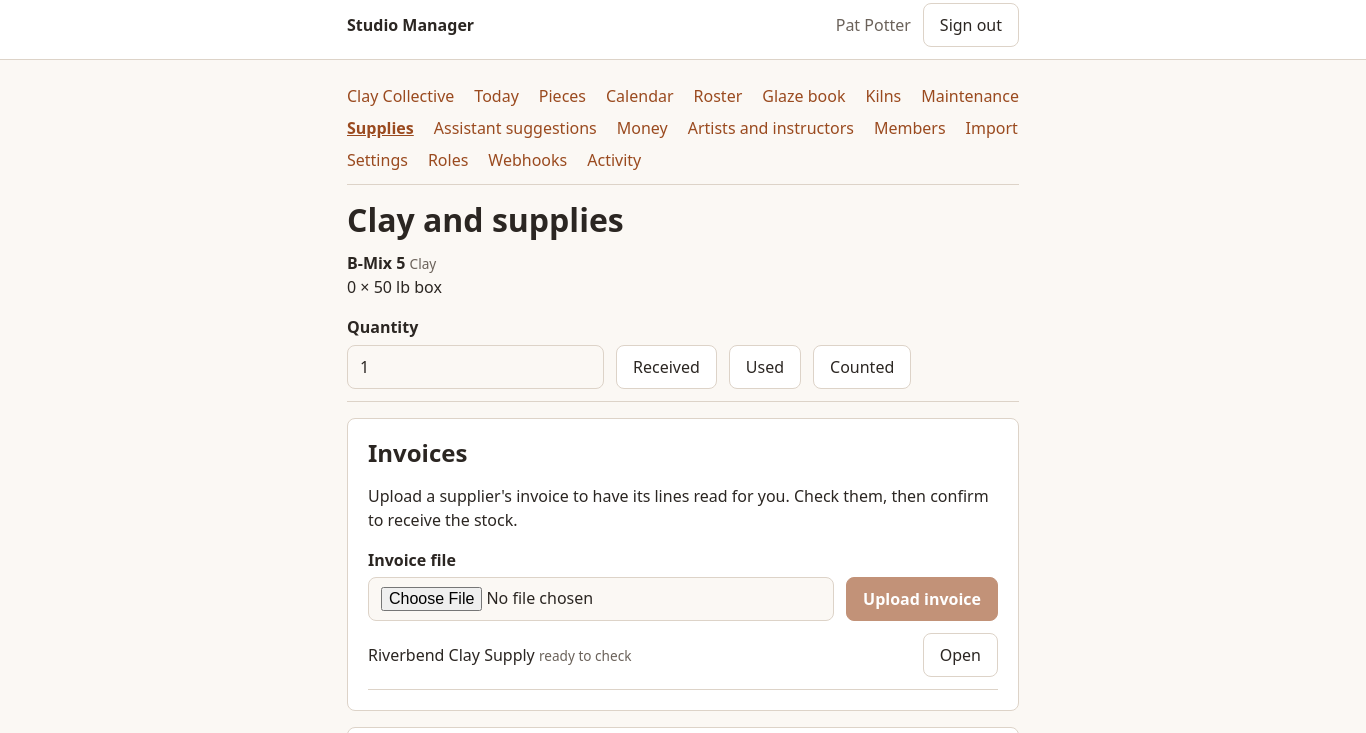
it: Supplies inbox › optionally records the invoice as a supplier bill in the ledger on confirmation
The width and height of the screenshot is (1366, 733).
Click the button "Open" at (960, 655), box [923,633,998,677]
(page scrolled)
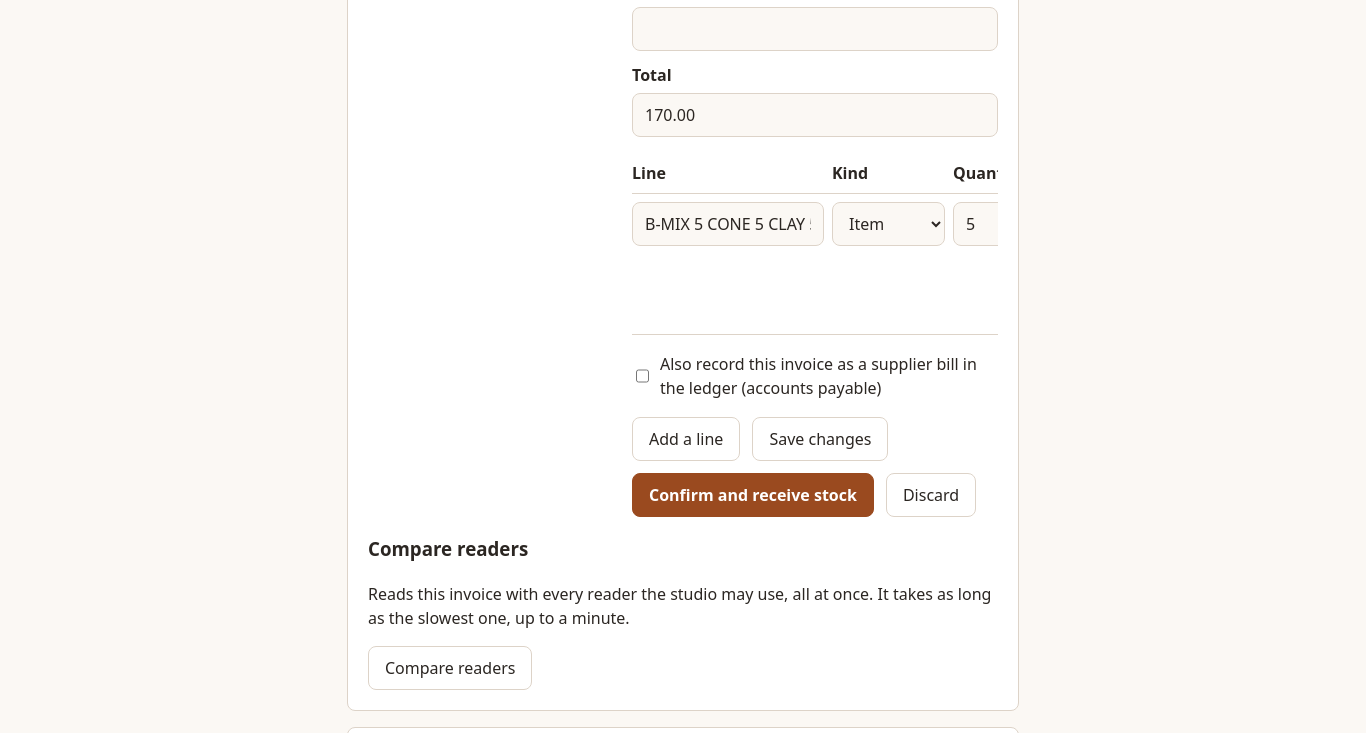
Click the checkbox labelled "Also record this invoice as a supplier bill in the ledger" at (642, 376), box [636,354,649,398]
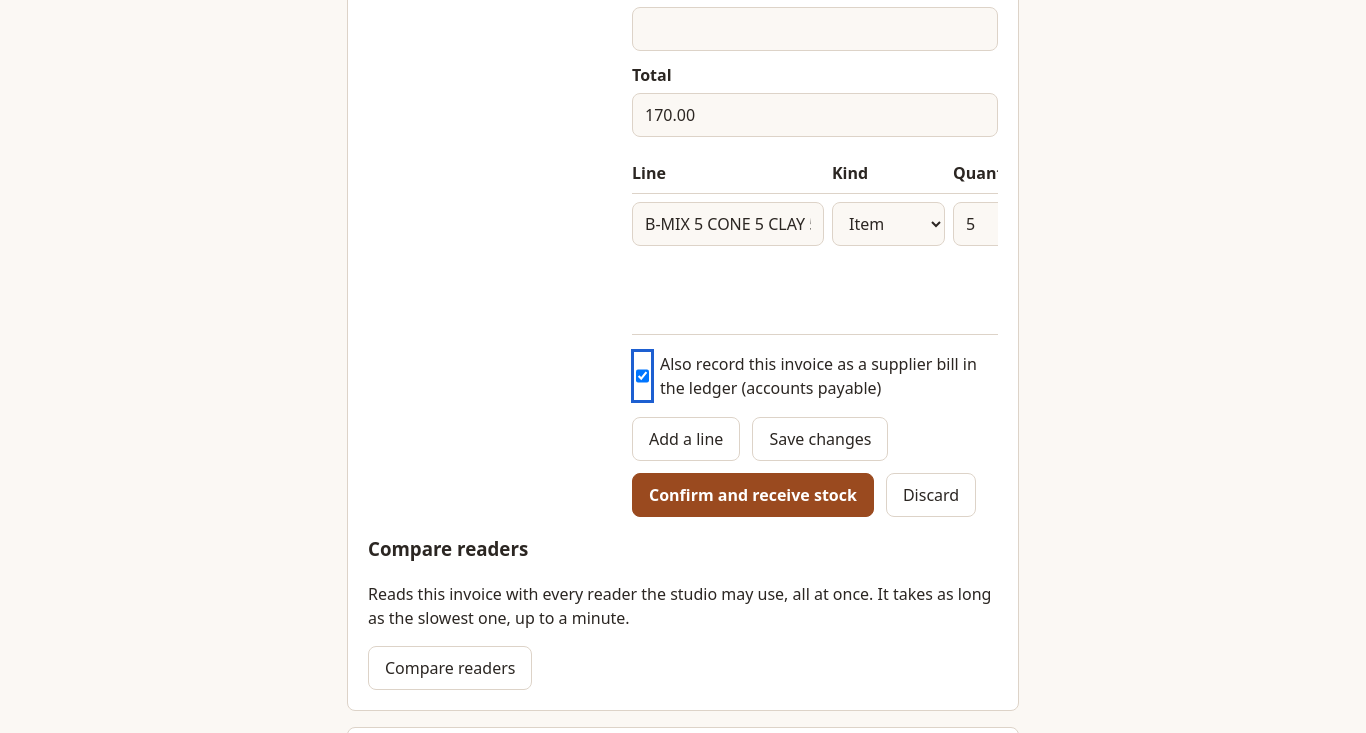
Click the button "Confirm and receive stock" at (753, 495), box [632,473,874,517]
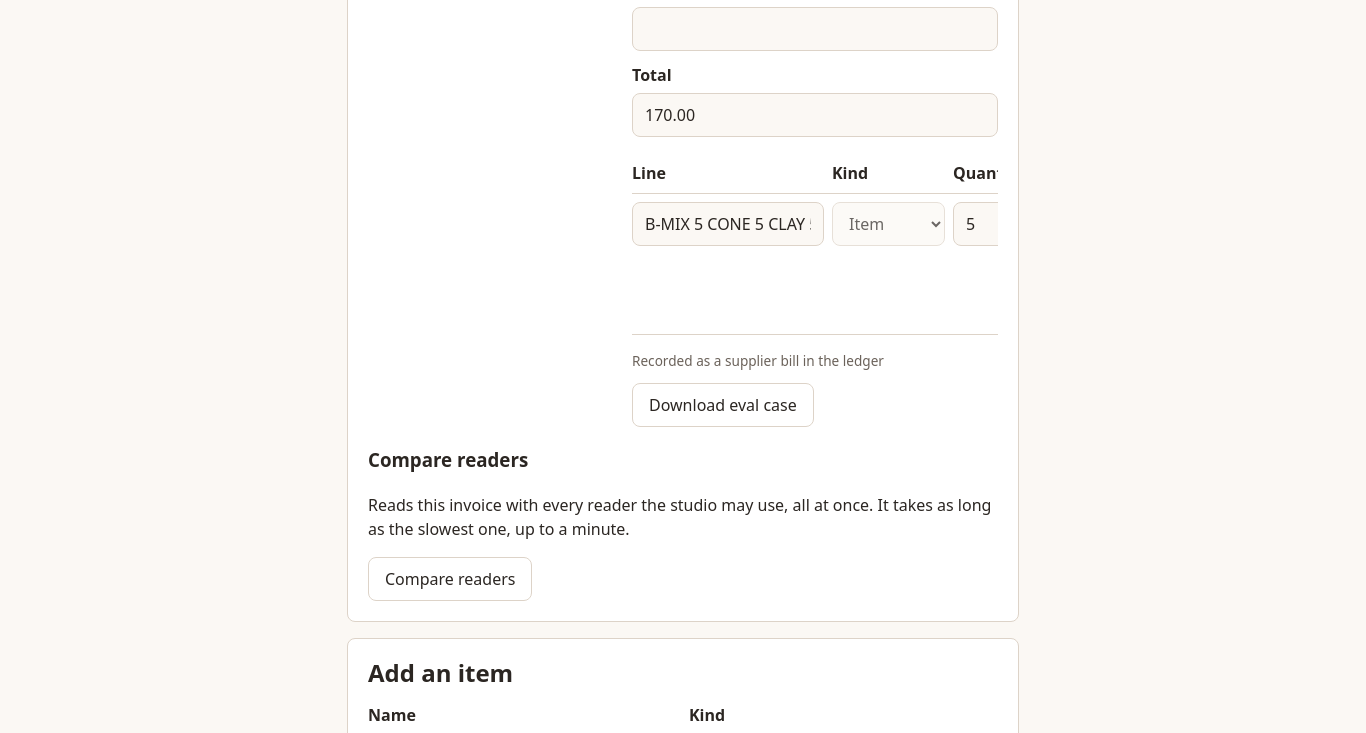
expect the text "Recorded as a supplier bill in the ledger" is shown: met, box [632,351,884,371]
